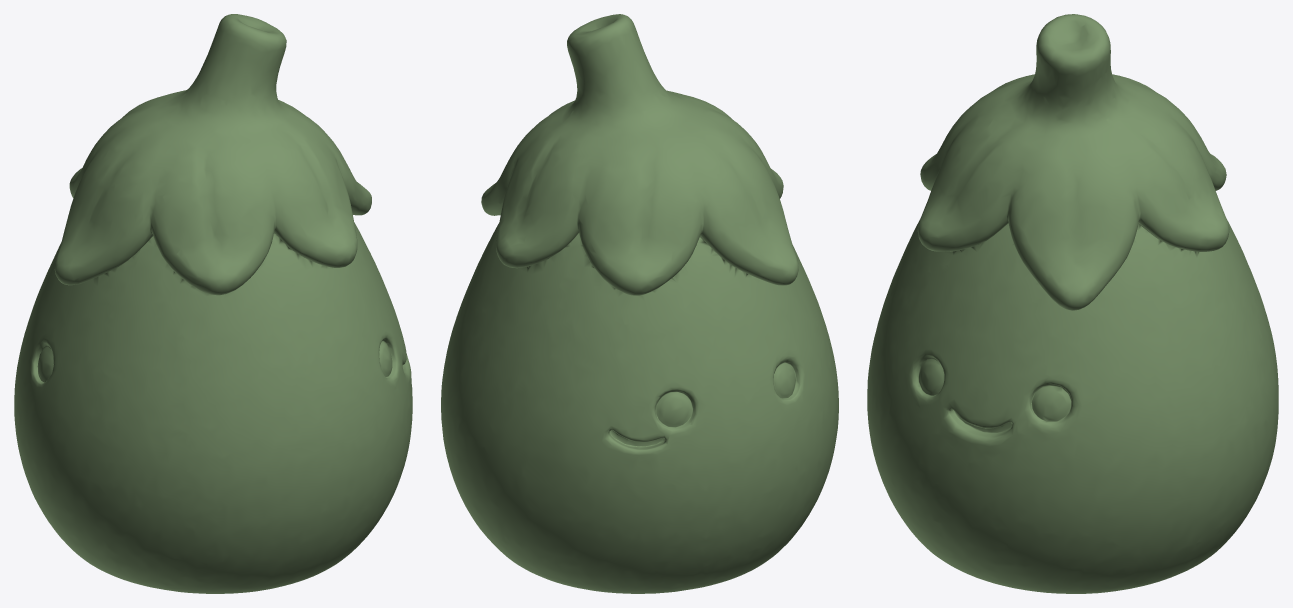
File: eggplant-pal.glb
The picture shows the model from 3 angles, left to right: view 1: azimuth 30°, elevation 25°; view 2: azimuth 150°, elevation 25°; view 3: azimuth 270°, elevation 25°; orthographic projection. The views are drawn at different scales.
Visible parts, largest first — view 1: tripo_printable_source; view 2: tripo_printable_source; view 3: tripo_printable_source.
Boxes of the visible parts, x1,y1,x2,y2 form: tripo_printable_source: (14,14,412,593); tripo_printable_source: (441,14,838,593); tripo_printable_source: (867,14,1278,593).
Bounding box in the file's own units: 70 × 100 × 69.84.
